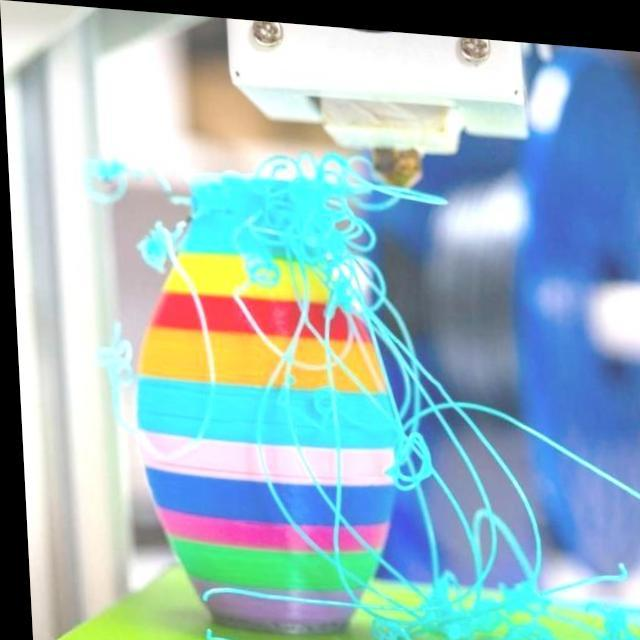spaghetti: (243, 330, 640, 640), (245, 140, 464, 344)
